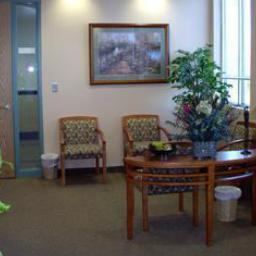Bote de Basura: (213, 186, 241, 226), (36, 150, 59, 183)
Matera: (173, 42, 227, 177)
Puerta: (0, 1, 13, 178)
